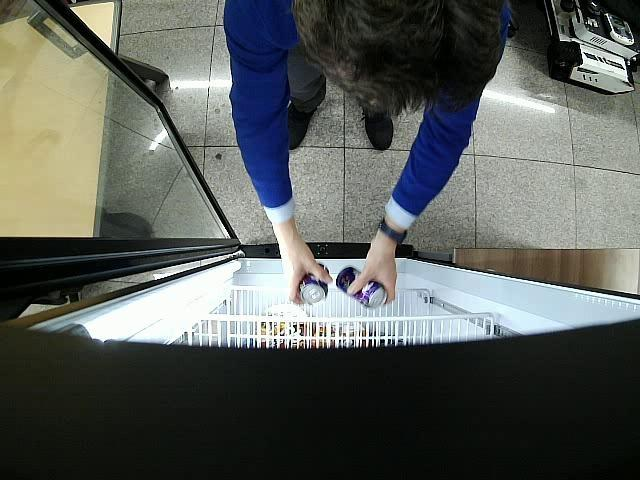14_welchsGrape: (337, 268, 388, 308), (300, 264, 328, 303)
